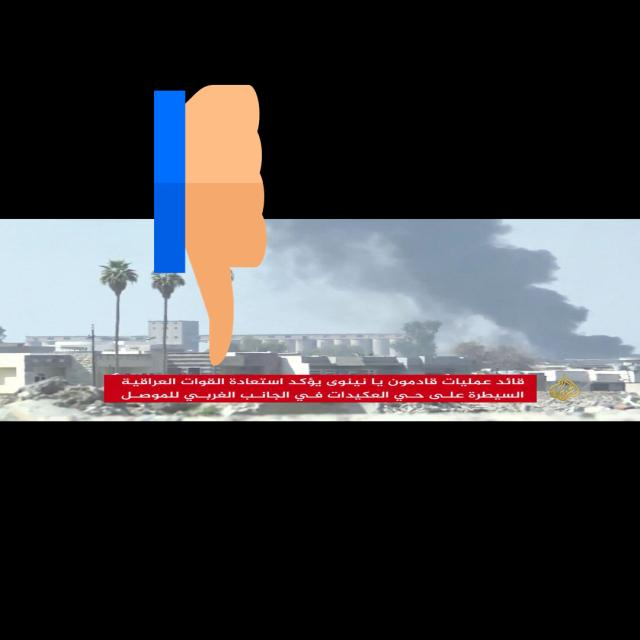obstruction: (154, 78, 267, 373)
